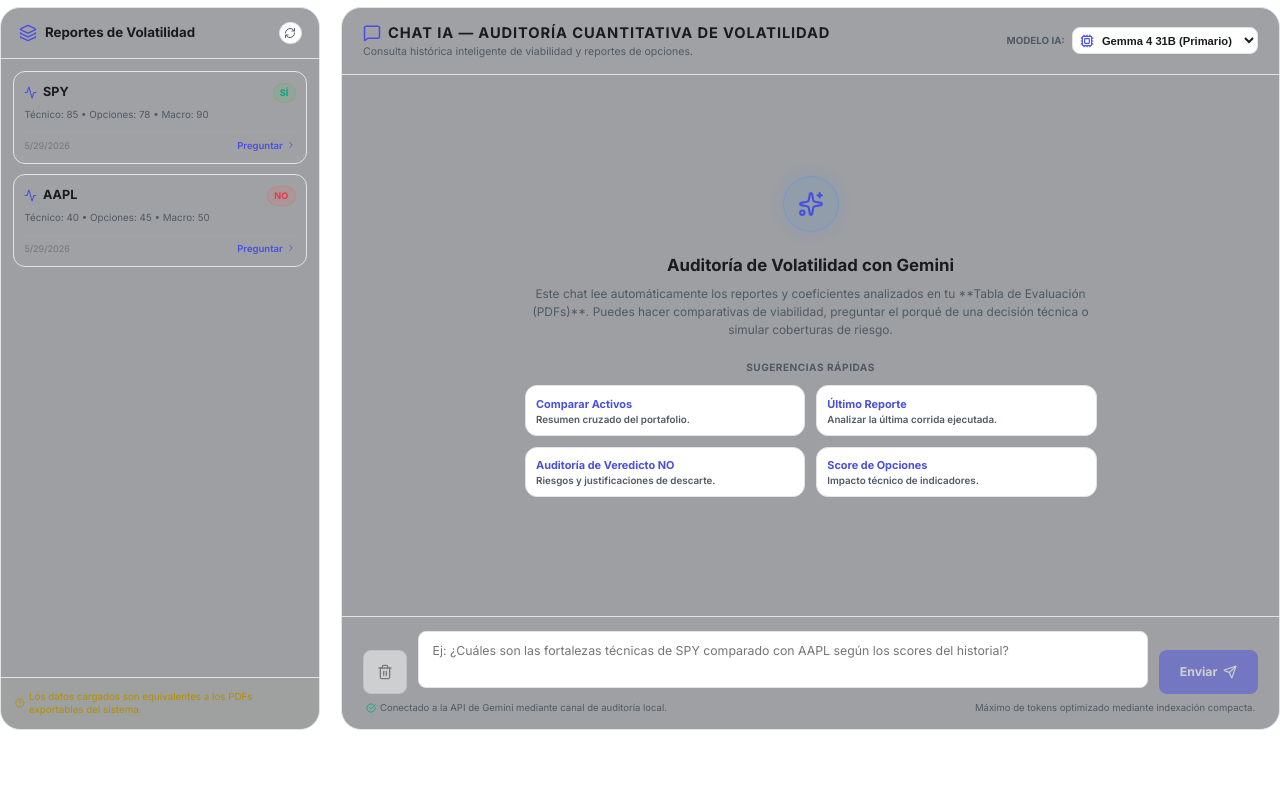
Test: AIChatPage › handles sending questions and renders conversational replies
Replace the text in the text box with placeholder "Ej:" with "¿Por qué es viable SPY?". click: (783, 660)
box: [418,631,1148,688]
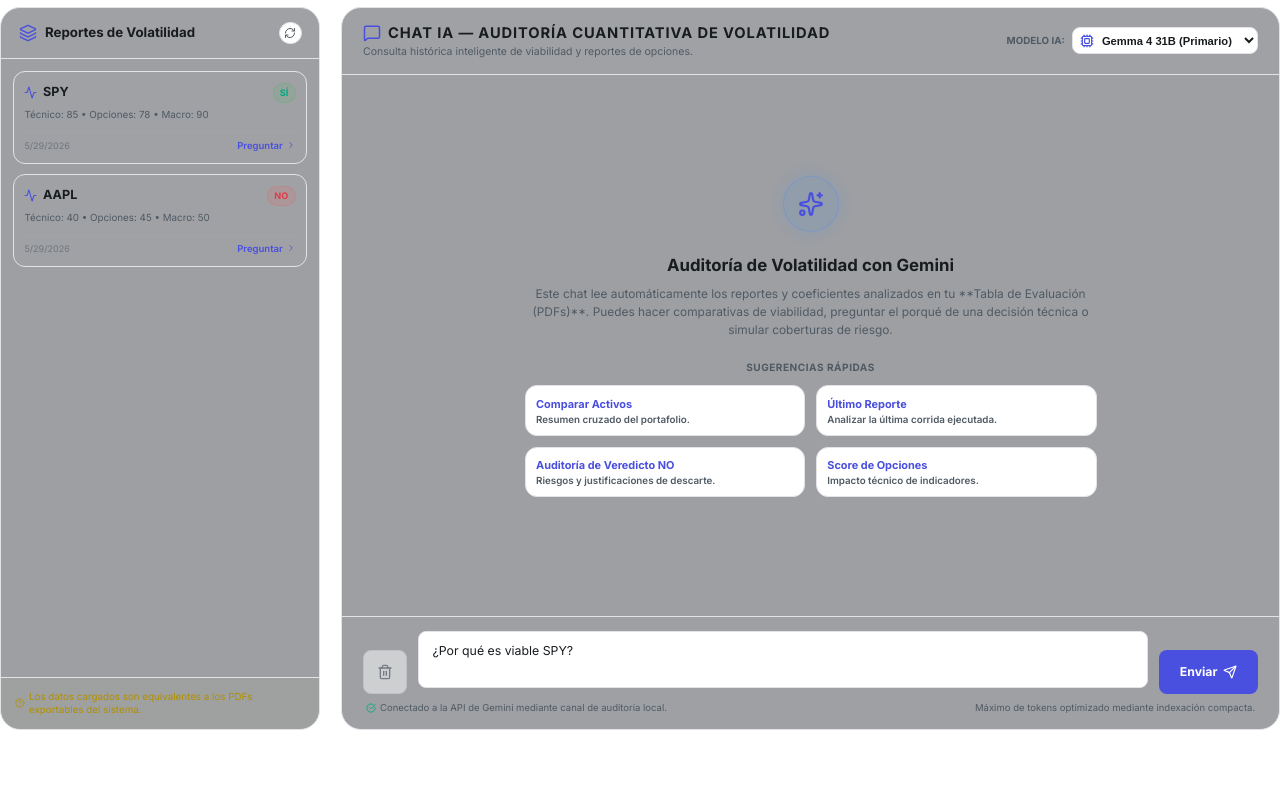
Click the button "Enviar". click: (1208, 672)
box: [1159,650,1258,694]
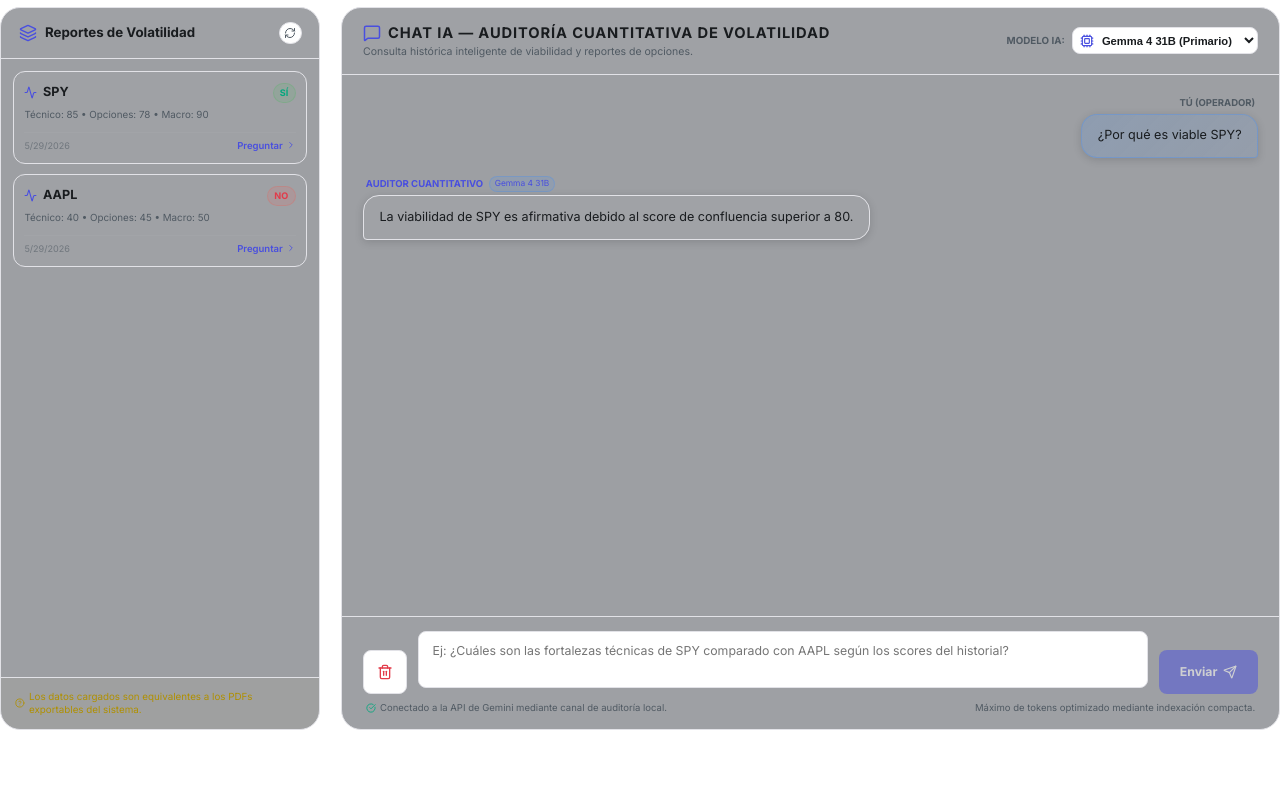
Result: the text "Analizando reportes y formulando veredicto" is shown at [363,195,870,240]
Result: the text "La viabilidad de SPY es afirmativa" is shown at [379,209,853,224]
